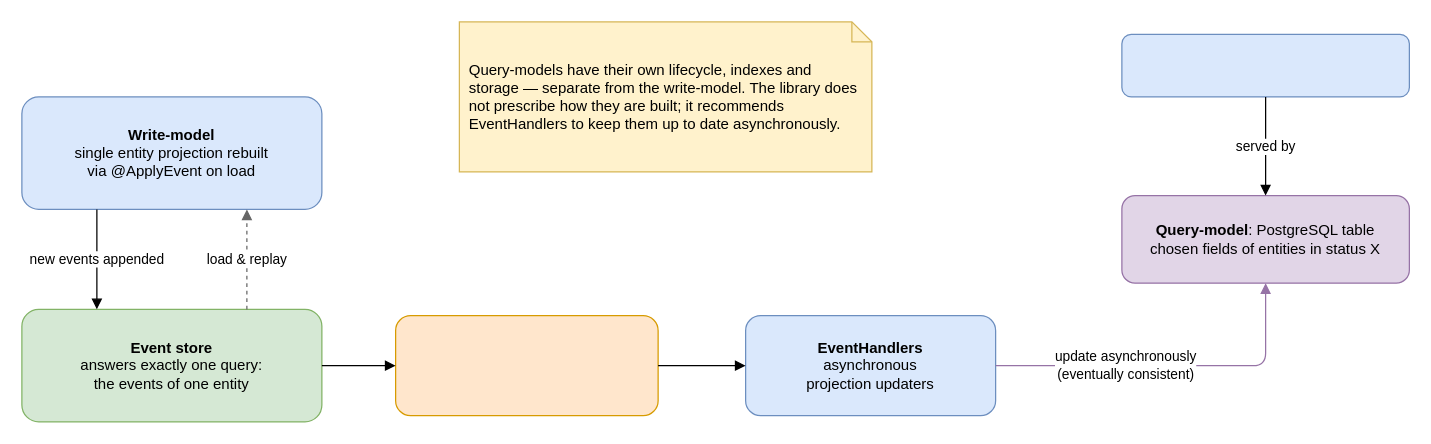
This 1431x444 diagram has some shape labels left out. Each missing label, with the box of its shape:
Complex queries: (1121, 33, 1409, 97)
propagation pipeline (stream → Lambda → SNS → SQS): (394, 314, 658, 416)
